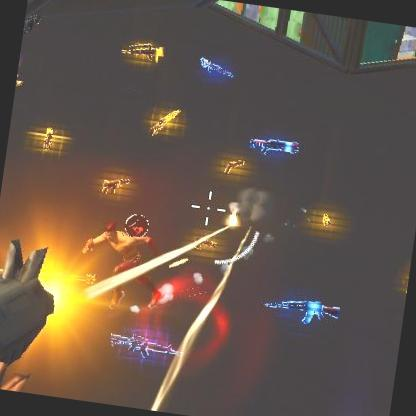person: (79, 206, 165, 282)
